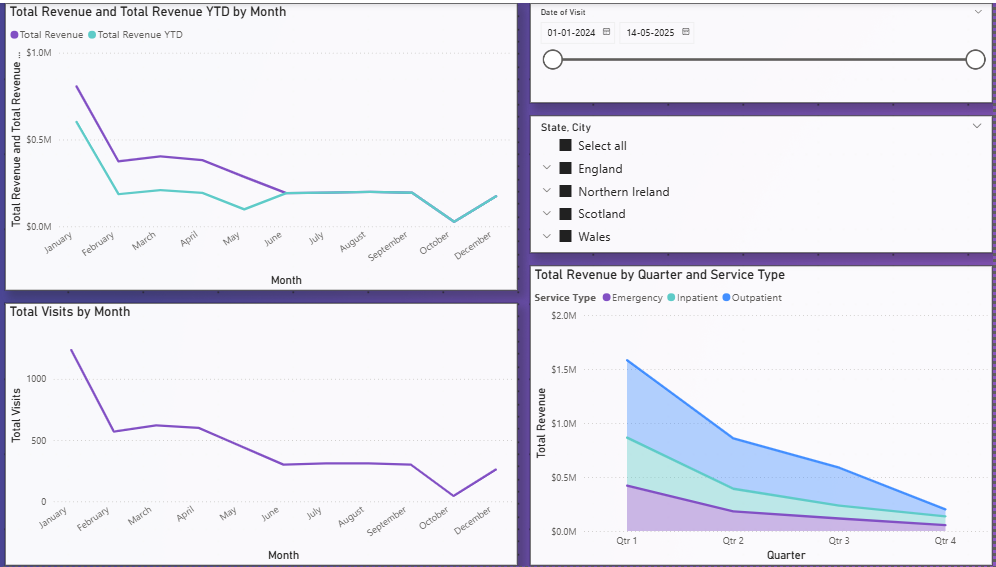

This screenshot's page, from the dashboard's own definition file:
{"tool":"powerbi","page":{"name":"Detailed Trend Analysis","canvas":[1280,720],"ordinal":2},"visuals":[{"type":"lineChart","fields":{"Category":["visits.Date of Visit.Variation.Date Hierarchy.Month"],"Y":["visits.Total Revenue","visits.Total Revenue YTD"]},"box":[16,0,656,368],"z":0},{"type":"lineChart","fields":{"Y":["visits.Total Visits"],"Category":["visits.Date of Visit.Variation.Date Hierarchy.Month"]},"box":[16,384,656,336],"z":1},{"type":"stackedAreaChart","fields":{"Category":["visits.Date of Visit.Variation.Date Hierarchy.Quarter","visits.Date of Visit.Variation.Date Hierarchy.Month","visits.Date of Visit.Variation.Date Hierarchy.Day"],"Y":["visits.Total Revenue"],"Series":["visits.Service Type"]},"box":[688,336,592,384],"z":2},{"type":"slicer","fields":{"Values":["visits.Date of Visit"]},"box":[688,0,592,128],"z":3},{"type":"slicer","fields":{"Values":["cities.State","cities.City"]},"box":[688,144,592,176],"z":4}]}

Visuals, with their boxes in screenshot pixels (x1, y1, x2, y2), scaled from the page's 1280x720 canvas onto the 996x567 screenshot:
lineChart - visits.Date of Visit.Variation.Date Hierarchy.Month x visits.Total Revenue: x1=12, y1=0, x2=523, y2=290
lineChart - visits.Total Visits x visits.Date of Visit.Variation.Date Hierarchy.Month: x1=12, y1=302, x2=523, y2=566
stackedAreaChart - visits.Date of Visit.Variation.Date Hierarchy.Quarter x visits.Date of Visit.Variation.Date Hierarchy.Month: x1=535, y1=265, x2=995, y2=566
slicer - visits.Date of Visit: x1=535, y1=0, x2=995, y2=101
slicer - cities.State x cities.City: x1=535, y1=113, x2=995, y2=252
